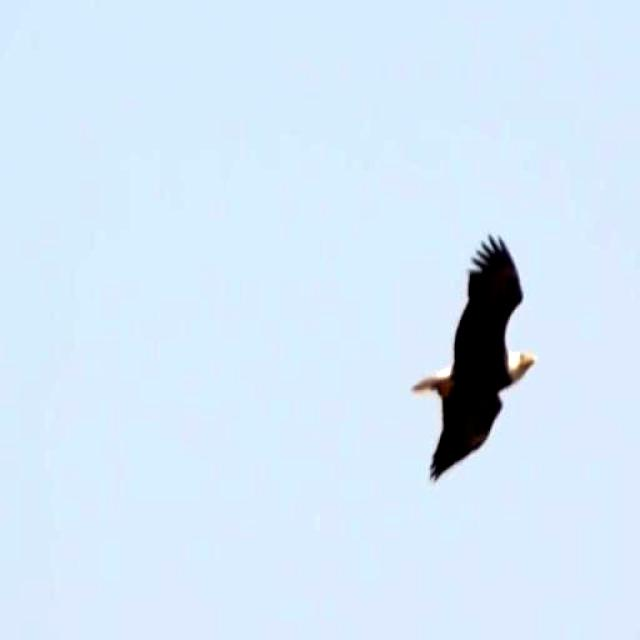airplane: (412, 220, 539, 492)
